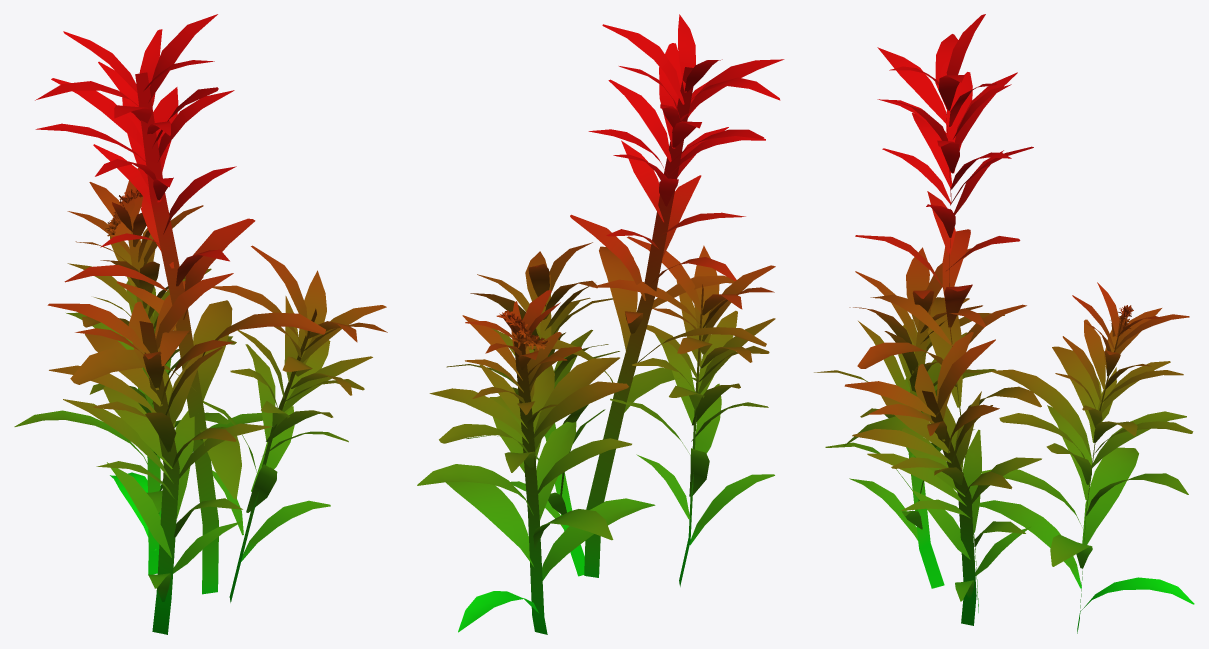
The model's file is Goldenrods_LOD4_Var7.fbx.
3 renders of one model, left to right at view 1: azimuth 30°, elevation 25°; view 2: azimuth 150°, elevation 25°; view 3: azimuth 270°, elevation 25°, orthographic. The views are drawn at different scales.
Parts seen in each view (by area): view 1: _sdxg_Var7_LOD4; view 2: _sdxg_Var7_LOD4; view 3: _sdxg_Var7_LOD4.
Part boxes in pixels (bbox=[...]): _sdxg_Var7_LOD4: bbox=[14, 14, 387, 634]; _sdxg_Var7_LOD4: bbox=[417, 14, 784, 634]; _sdxg_Var7_LOD4: bbox=[814, 14, 1194, 633].
Bounding box in the file's own units: 50.71 × 87.68 × 54.61.
